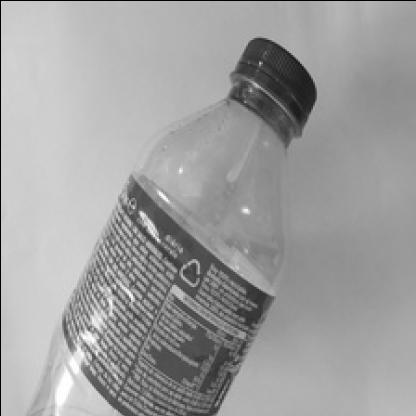plastic_bottles: (31, 42, 323, 414)
